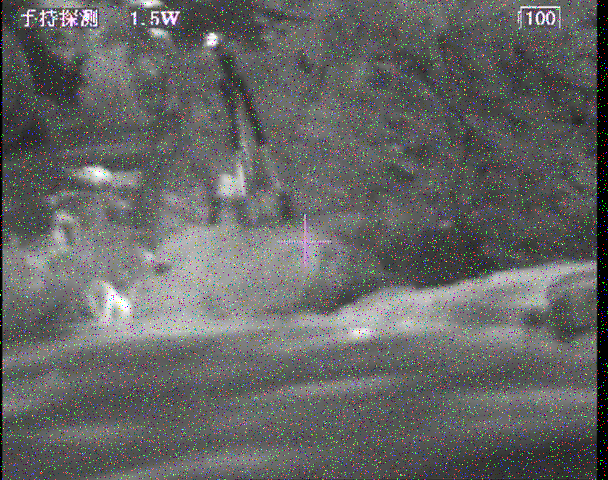my: (205, 32, 218, 46)
